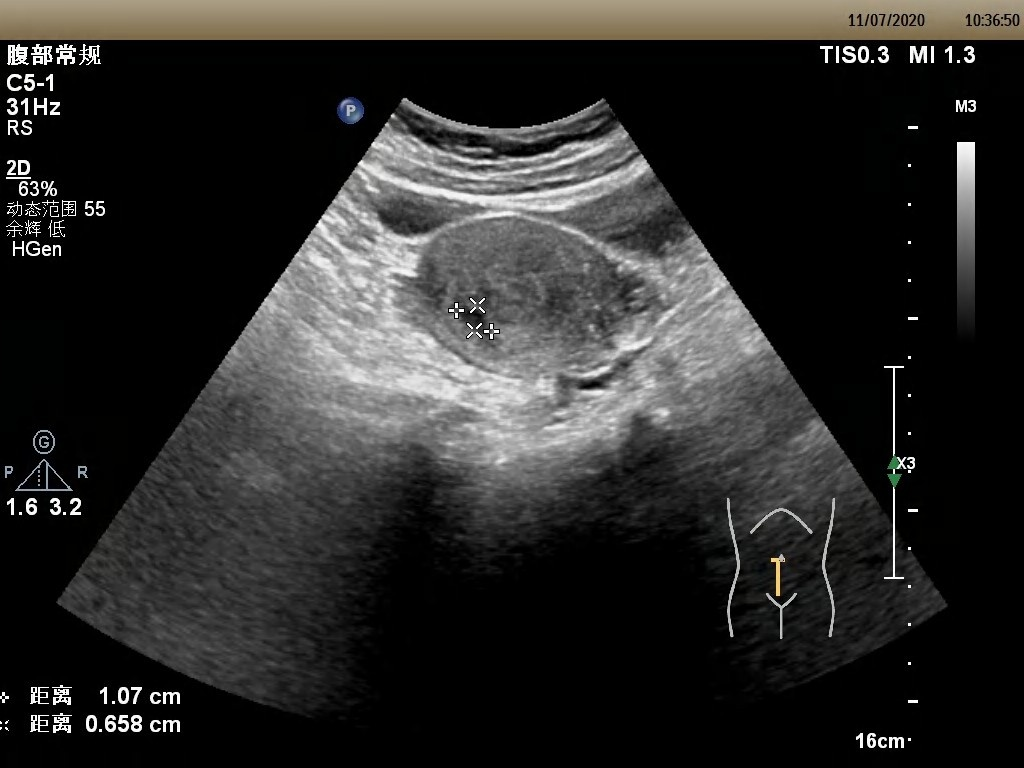肌瘤: (463, 304, 487, 331)
